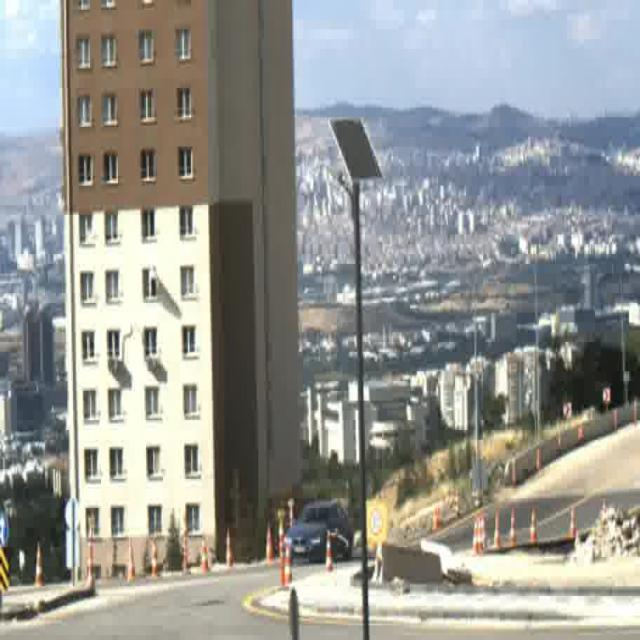Car: (284, 497, 354, 561)
